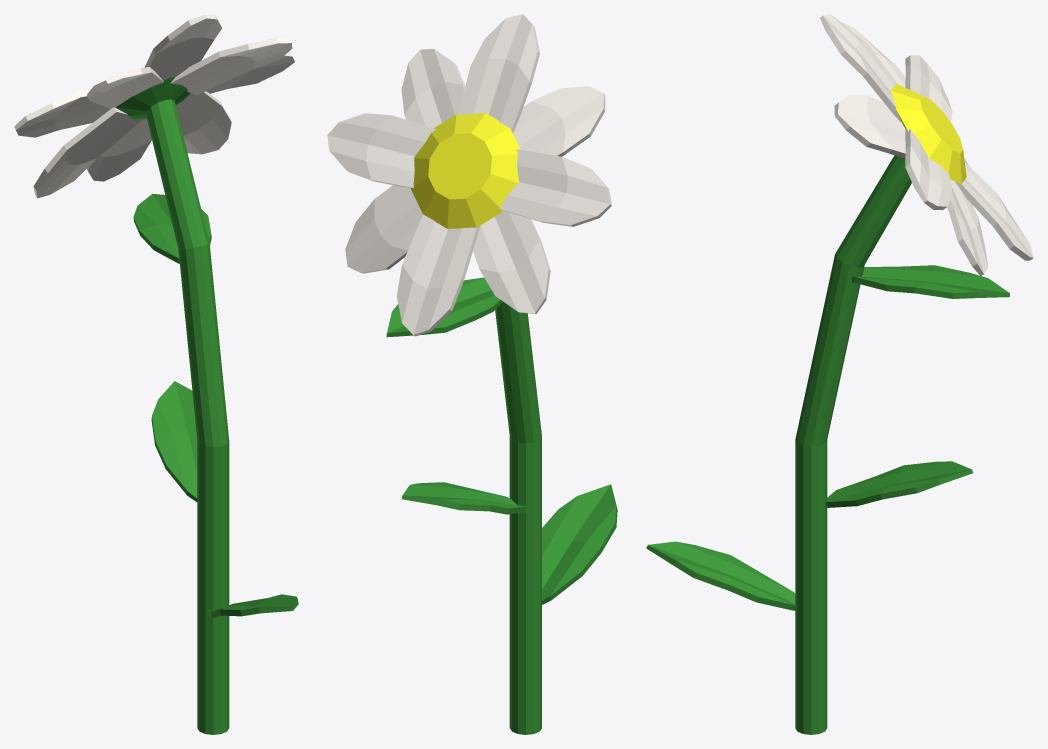
The model's file is Flower1.3.glb.
The picture shows the model from 3 angles, left to right: view 1: azimuth 30°, elevation 25°; view 2: azimuth 150°, elevation 25°; view 3: azimuth 270°, elevation 25°; orthographic projection.
Visible parts, largest first — view 1: Flower1.3; view 2: Flower1.3; view 3: Flower1.3.
Part boxes in pixels (x1,y1,x2,y2): Flower1.3: [14, 14, 298, 734]; Flower1.3: [327, 14, 617, 734]; Flower1.3: [646, 14, 1033, 734].
Bounding box in the file's own units: 0.146 × 0.3543 × 0.175.
